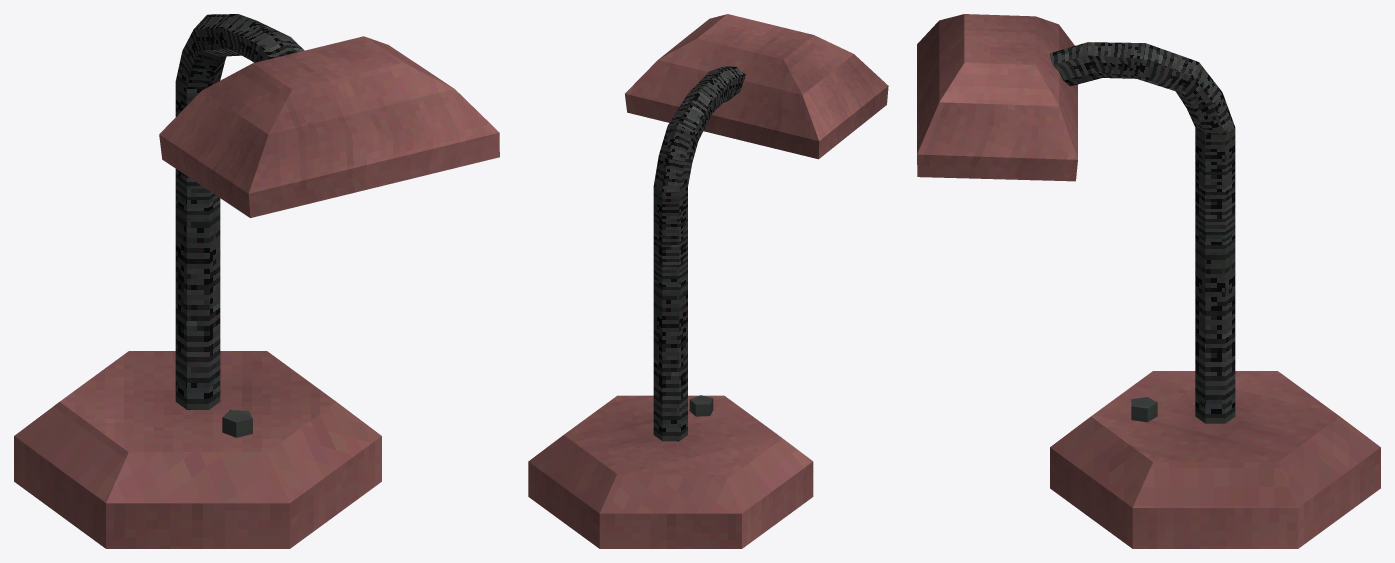
The model's file is square_desklamp.fbx.
The picture shows the model from 3 angles, left to right: view 1: azimuth 30°, elevation 25°; view 2: azimuth 150°, elevation 25°; view 3: azimuth 270°, elevation 25°; orthographic projection. The views are drawn at different scales.
Visible parts, largest first — view 1: square_desklamp; view 2: square_desklamp; view 3: square_desklamp.
Part boxes in pixels (x1,y1,x2,y2): square_desklamp: [14, 14, 499, 548]; square_desklamp: [528, 14, 888, 548]; square_desklamp: [917, 14, 1380, 548].
Size of the model in its own units: 19.83 by 34.69 by 32.09.
